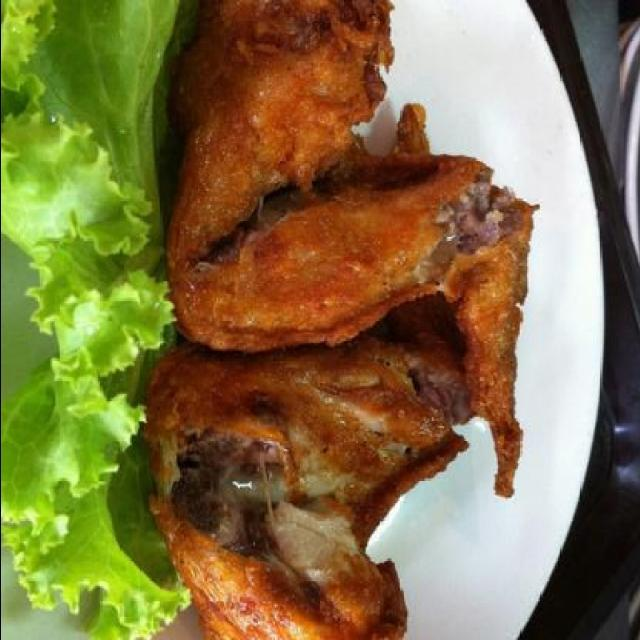Deep fried chicken wing: (154, 7, 548, 638)
